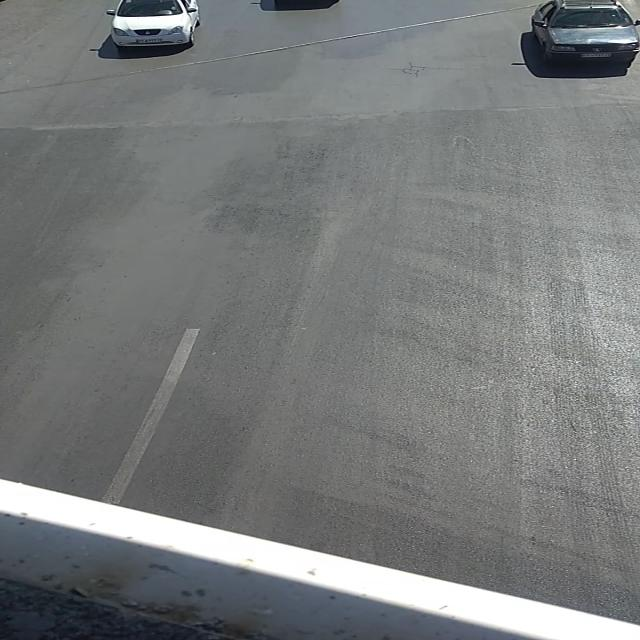car: (530, 1, 637, 64), (104, 0, 200, 46)
